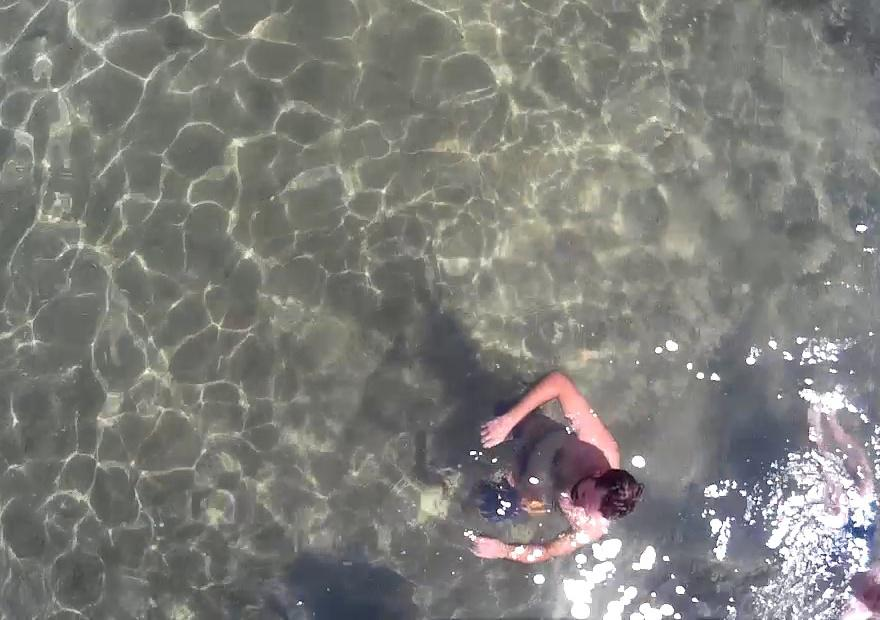human: (452, 347, 638, 580)
